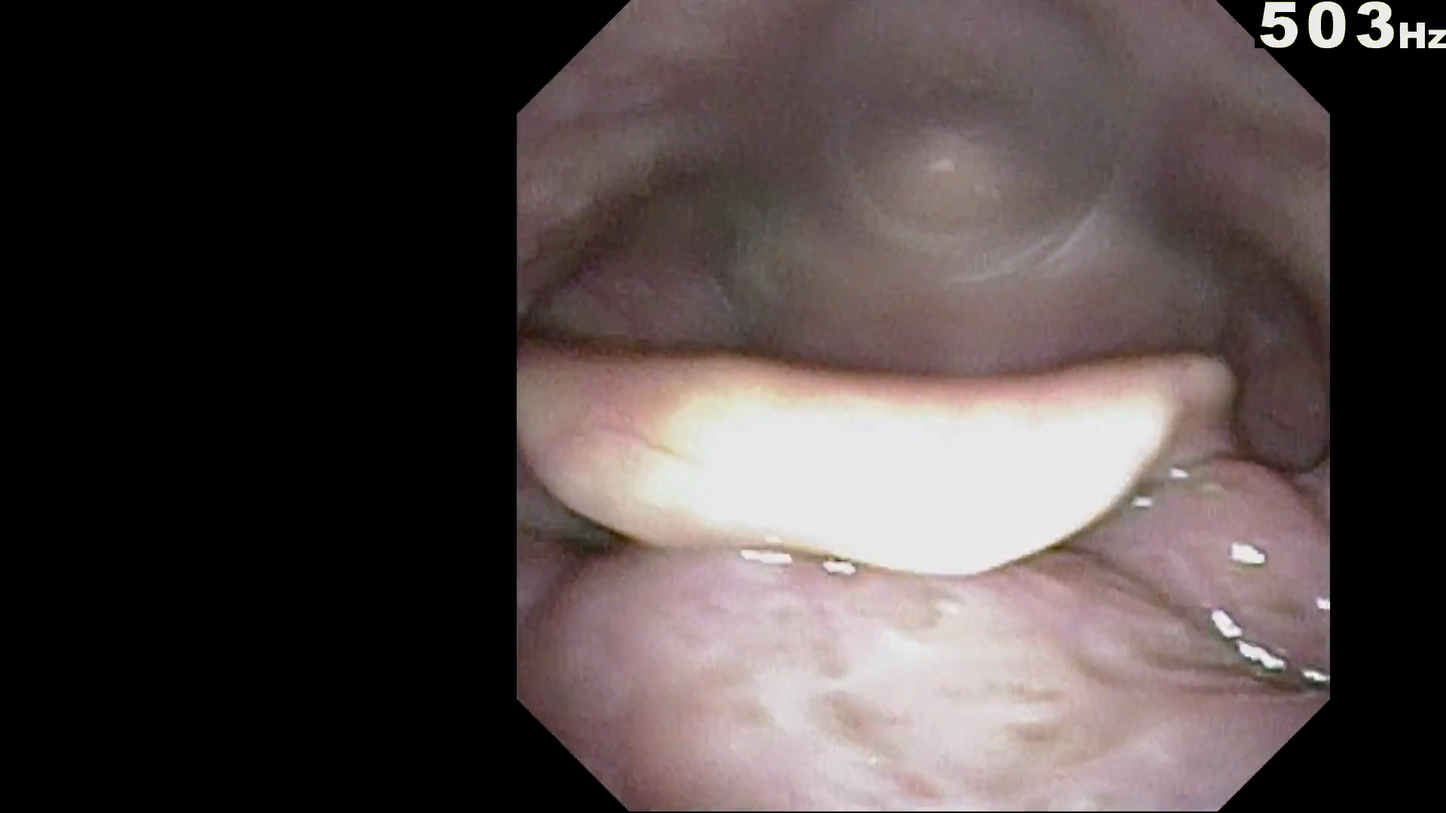epiglottis: (609, 349, 1225, 573)
